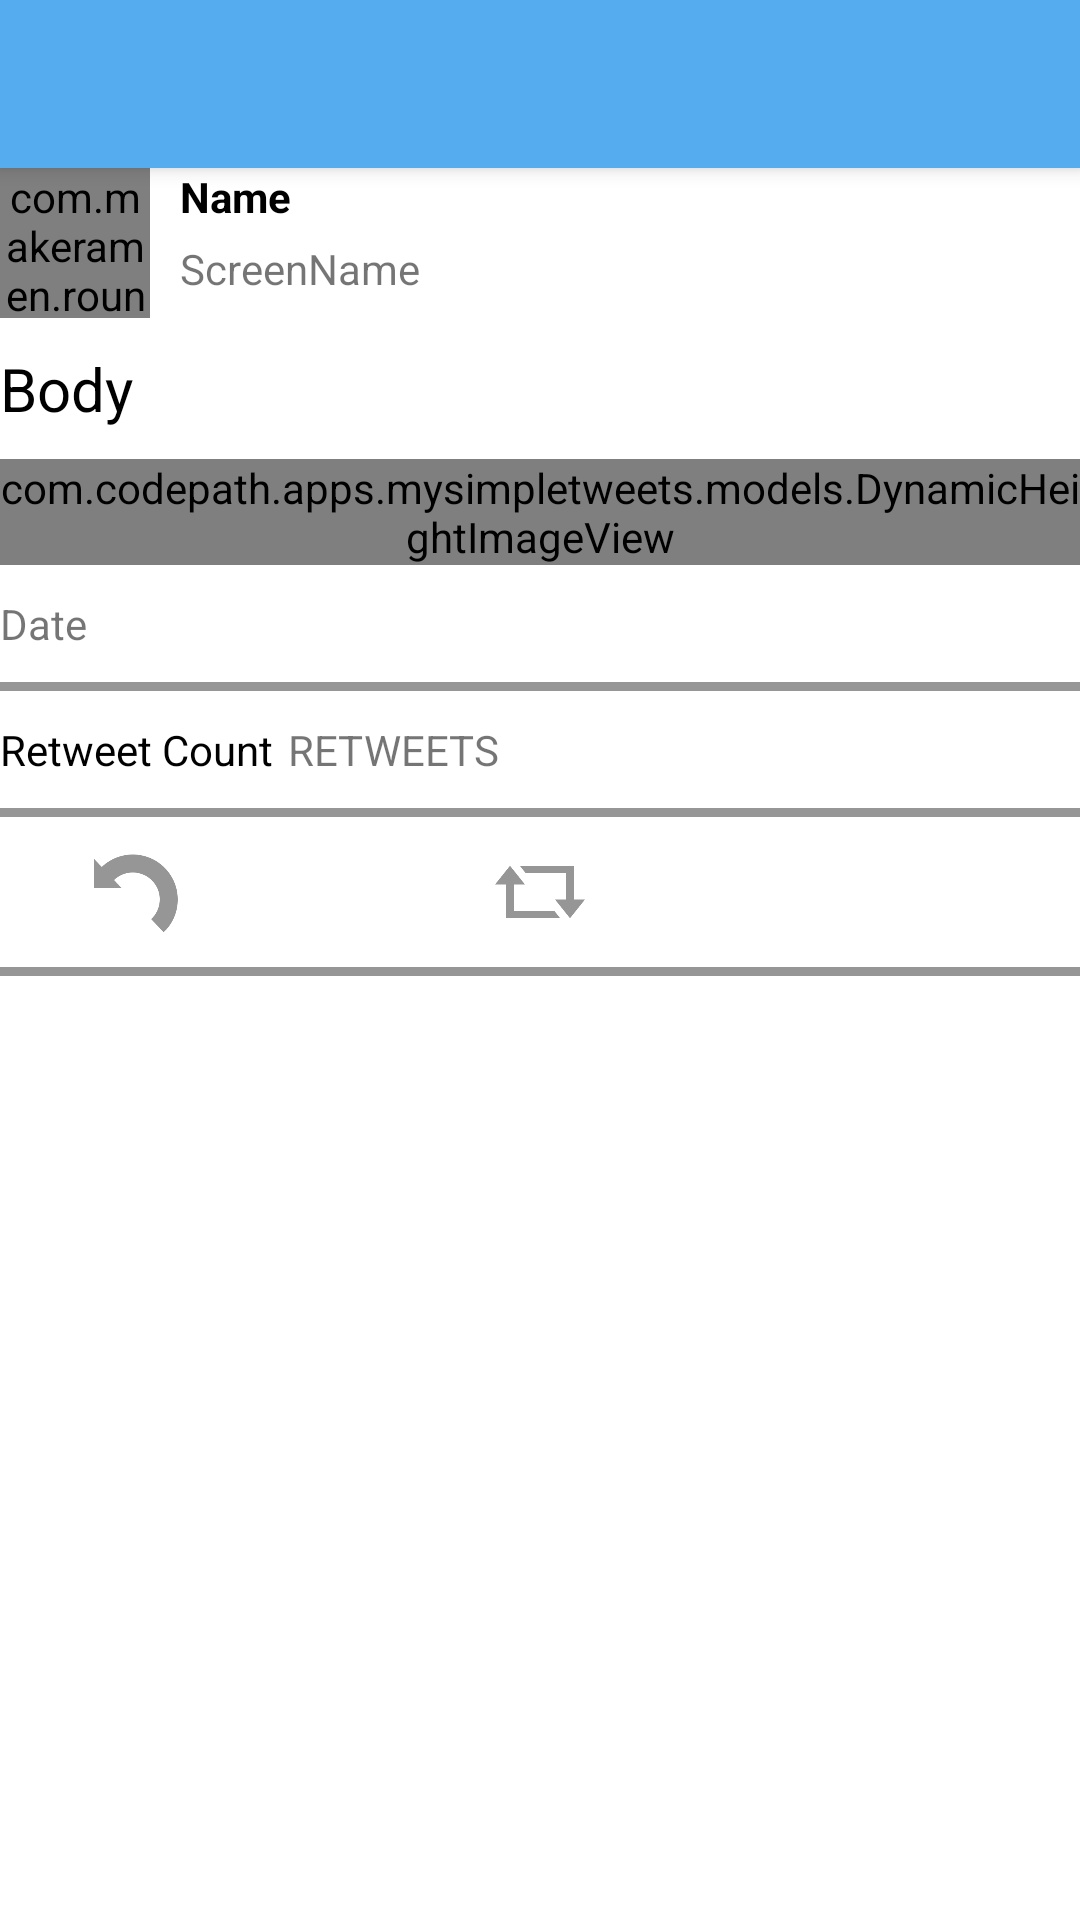

Locate icon controls on the screen. Image size 1080×1920, boxes as (x1, y1, x2, y2).
reply: (94, 854, 178, 932)
